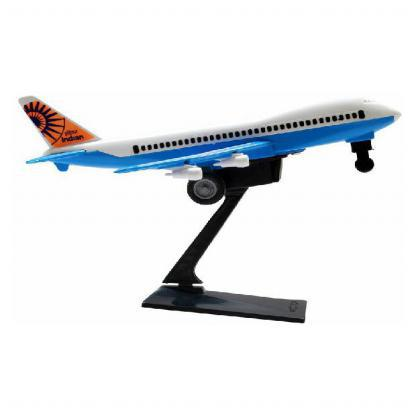CIV_Plane: (13, 84, 404, 203)
